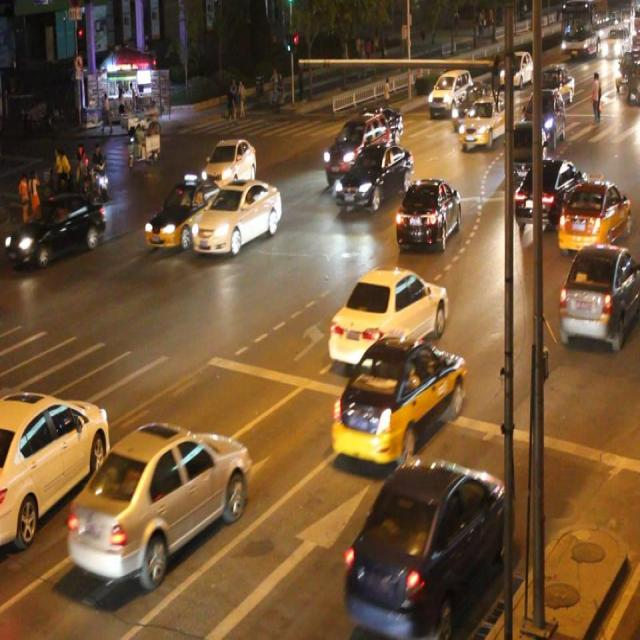car: (344, 454, 508, 640), (69, 418, 250, 583), (329, 330, 466, 463), (0, 390, 110, 524), (329, 268, 447, 365), (556, 244, 640, 348), (1, 195, 107, 272), (192, 178, 281, 254), (555, 178, 630, 254), (145, 178, 222, 249), (335, 143, 412, 207), (394, 177, 461, 250), (513, 158, 579, 226), (324, 112, 388, 182), (201, 139, 257, 192), (457, 96, 511, 149), (503, 120, 544, 184), (356, 107, 402, 148)
